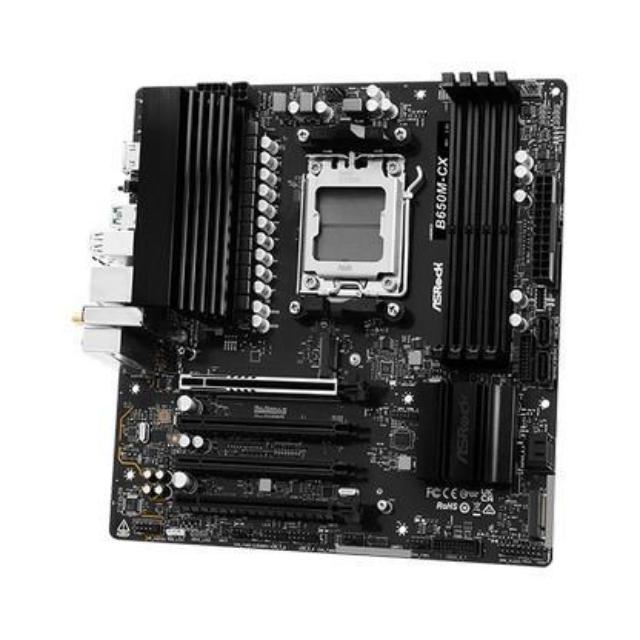Mainboard: (82, 69, 564, 572)
